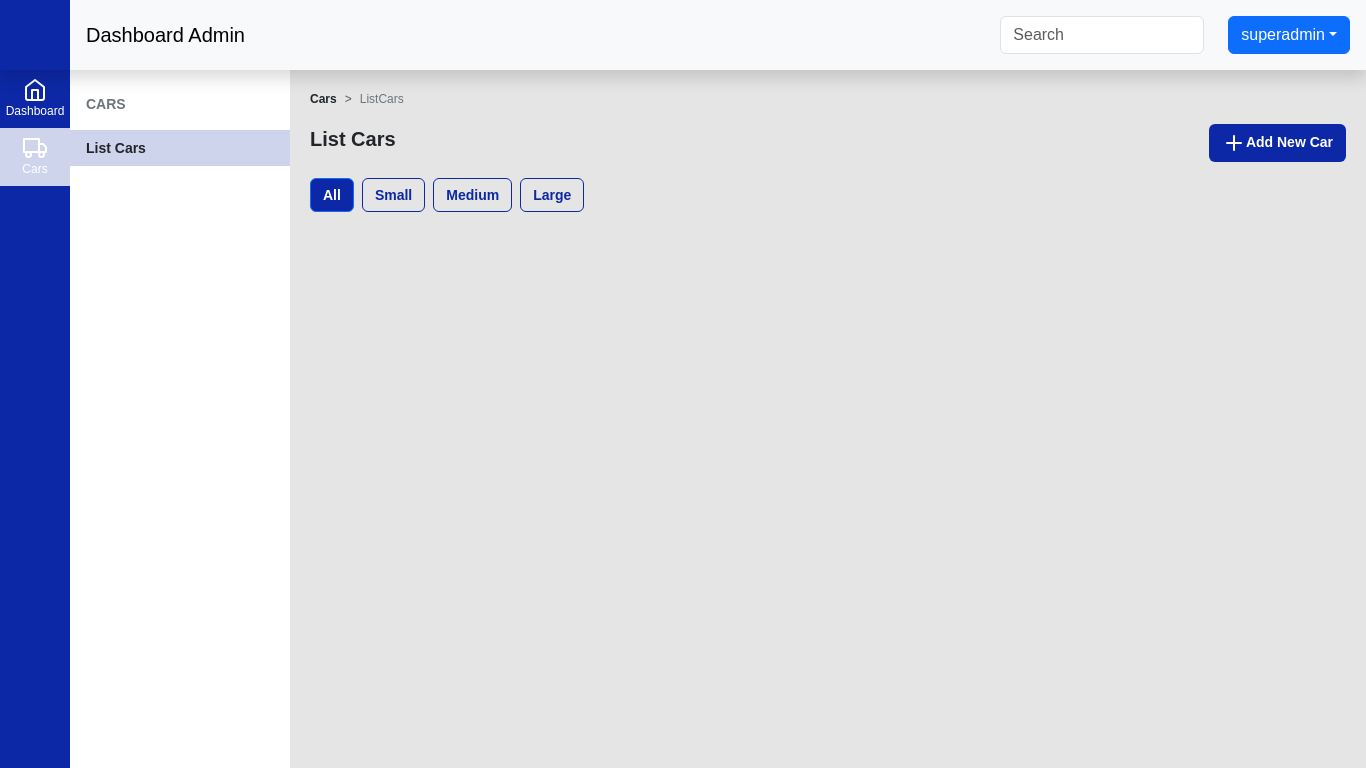
Test: Layout Admin Test › should render form create car
Check: the button "superadmin" is shown, box x1=1228 y1=16 x2=1350 y2=54
Click the link with test id "AddCar" at (1277, 143), box x1=1209 y1=124 x2=1346 y2=162
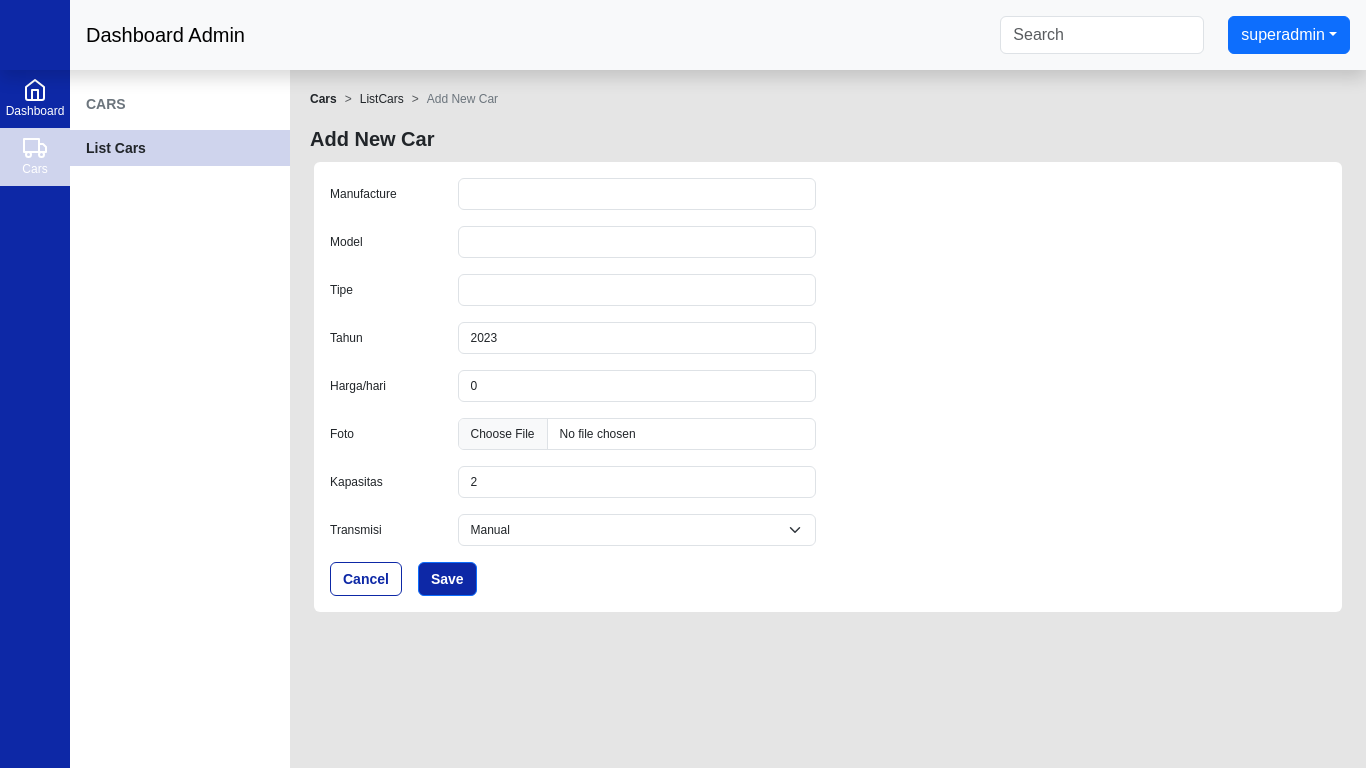
Check: the heading "Add New Car" is shown, box x1=310 y1=124 x2=434 y2=154
